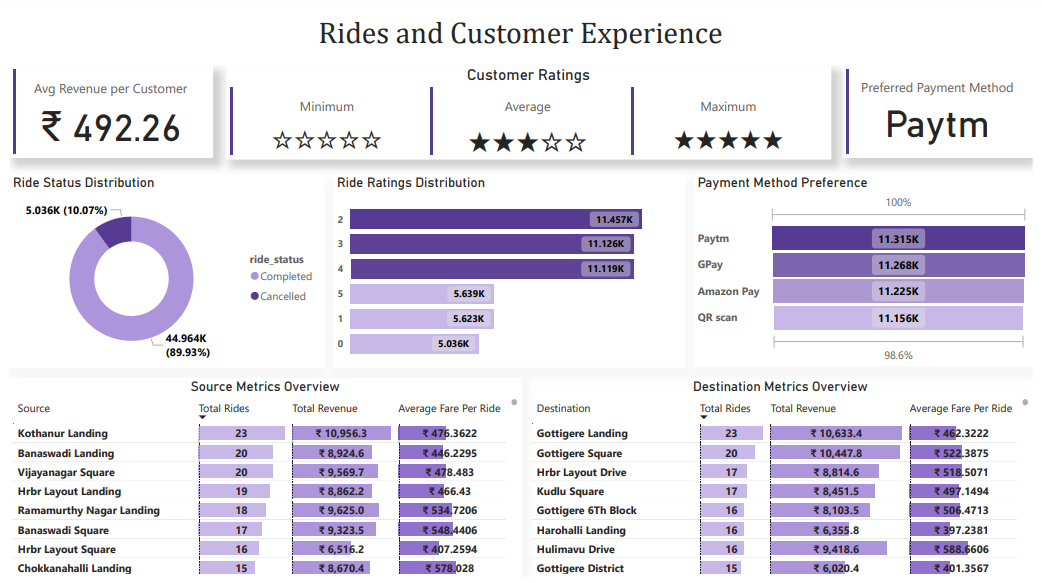

This screenshot's page, from the dashboard's own definition file:
{"tool":"powerbi","page":{"name":"Rides and Customer","canvas":[1280,720],"ordinal":2},"visuals":[{"type":"funnel","title":"Payment Method Preference","fields":{"Category":["rides_data.payment_method"],"Y":["DAX.Total Rides"]},"box":[856.2,216.9,423.8,241.2],"z":2000},{"type":"donutChart","title":"Ride Status Distribution","fields":{"Y":["DAX.Total Rides"],"Category":["rides_data.ride_status"]},"box":[0,216.9,393.8,242.6],"z":3000},{"type":"barChart","title":"Ride Ratings Distribution ","fields":{"Y":["DAX.Total Rides"],"Category":["rides_data.ratings"]},"box":[405.3,216.9,440.9,242.6],"z":5000},{"type":"tableEx","title":"Source Metrics Overview","fields":{"Values":["rides_data.source","DAX.Total Rides","DAX.Total Revenue","DAX.Average Fare Per Ride"]},"box":[0,472.3,640.7,248.3],"z":5001},{"type":"tableEx","title":"Destination Metrics Overview","fields":{"Values":["rides_data.destination","DAX.Total Rides","DAX.Total Revenue","DAX.Average Fare Per Ride"]},"box":[649.3,472.3,630.7,248.3],"z":5002},{"type":"cardVisual","fields":{"Data":["DAX.Preferred Payment Method"]},"box":[1041.7,81.3,238.3,115.6],"z":5005},{"type":"cardVisual","fields":{"Data":["DAX.Avg Revenue per Customer"]},"box":[0,82.1,254.9,115.2],"z":5006},{"type":"cardVisual","title":"Customer Ratings","fields":{"Data":["DAX.Min Rating","DAX.Avg Rating (Stars)","DAX.Max Rating"]},"box":[270.7,82.1,757.4,116.6],"z":5007},{"type":"textbox","box":[0,14.4,1278.7,66.2],"z":5008}]}

Visuals, with their boxes in screenshot pixels (x1, y1, x2, y2), scaled from the page's 1280x720 canvas onto the 1042x583 screenshot:
"Payment Method Preference" funnel: locate(697, 176, 1041, 371)
"Ride Status Distribution" donutChart: locate(0, 176, 321, 372)
"Ride Ratings Distribution " barChart: locate(330, 176, 689, 372)
"Source Metrics Overview" tableEx: locate(0, 382, 522, 582)
"Destination Metrics Overview" tableEx: locate(529, 382, 1041, 582)
cardVisual - DAX.Preferred Payment Method: locate(848, 66, 1041, 159)
cardVisual - DAX.Avg Revenue per Customer: locate(0, 66, 208, 160)
"Customer Ratings" cardVisual: locate(220, 66, 837, 161)
textbox: locate(0, 12, 1041, 65)
